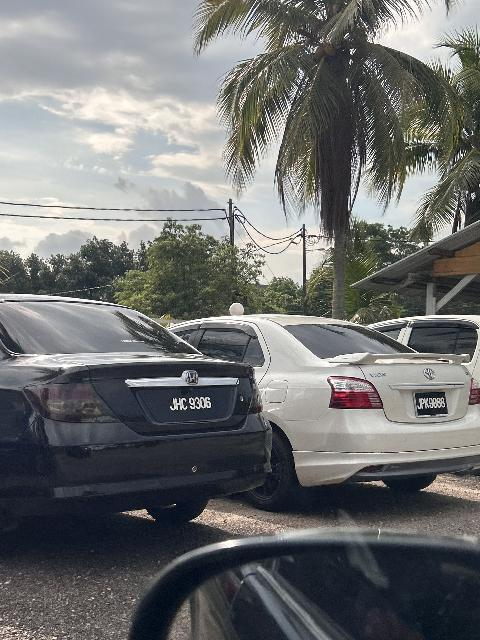JHC9306: (150, 387, 232, 422)
JPK9868: (413, 389, 451, 419)
License_Plate: (150, 387, 232, 422), (413, 389, 451, 419)
car: (1, 285, 277, 537), (167, 312, 480, 510)
